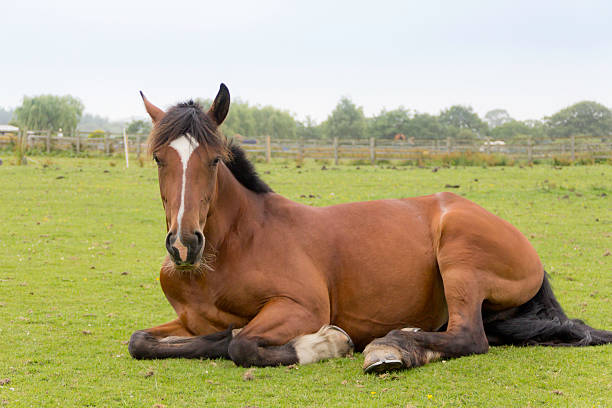Horse: (123, 83, 602, 380)
